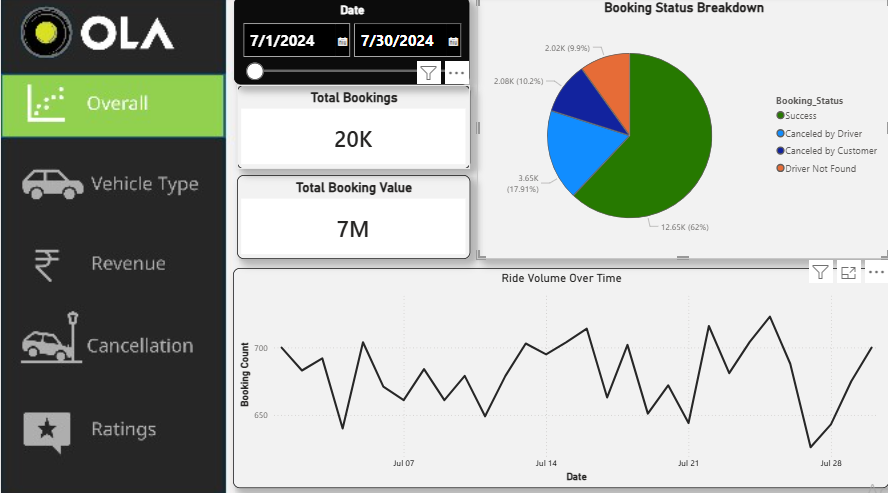

Layout of this report page (visuals, bound fields, positions):
{"tool":"powerbi","page":{"name":"Overall","canvas":[1280,720],"ordinal":0},"visuals":[{"type":"actionButton","box":[0,224.6,324,92.2],"z":0},{"type":"actionButton","box":[0,344.2,324,92.2],"z":1000},{"type":"actionButton","box":[0,449.3,324,92.2],"z":2000},{"type":"actionButton","box":[0,576,324,92.2],"z":3000},{"type":"lineChart","title":"Ride Volume Over Time","fields":{"Category":["July.Date"],"Y":["CountNonNull(July.Booking_ID)"]},"box":[334.1,390.2,944.6,316.8],"z":4000},{"type":"pieChart","title":"Booking Status Breakdown","fields":{"Category":["July.Booking_Status"],"Y":["CountNonNull(July.Booking_ID)"]},"box":[685.4,0,594.7,377.3],"z":5000},{"type":"slicer","title":"Date","fields":{"Values":["July.Date"]},"box":[336,0,339.3,126],"z":6000},{"type":"cardVisual","title":"Total Bookings","fields":{"Data":["CountNonNull(July.Booking_ID)"]},"box":[339.8,126.7,335.5,121],"z":7000},{"type":"cardVisual","title":"Total Booking Value","fields":{"Data":["Sum(July.Booking_Value)"]},"box":[339.8,256.3,335.5,121],"z":8000}]}

Visuals, with their boxes on the page's 1280x720 design canvas (x1, y1, x2, y2). These are canvas units, not pixel positions in the 888x493 screenshot, which may show the page scaled, cropped or inside an application window:
actionButton: bbox(0, 225, 324, 317)
actionButton: bbox(0, 344, 324, 436)
actionButton: bbox(0, 449, 324, 542)
actionButton: bbox(0, 576, 324, 668)
"Ride Volume Over Time" lineChart: bbox(334, 390, 1279, 707)
"Booking Status Breakdown" pieChart: bbox(685, 0, 1280, 377)
"Date" slicer: bbox(336, 0, 675, 126)
"Total Bookings" cardVisual: bbox(340, 127, 675, 248)
"Total Booking Value" cardVisual: bbox(340, 256, 675, 377)
